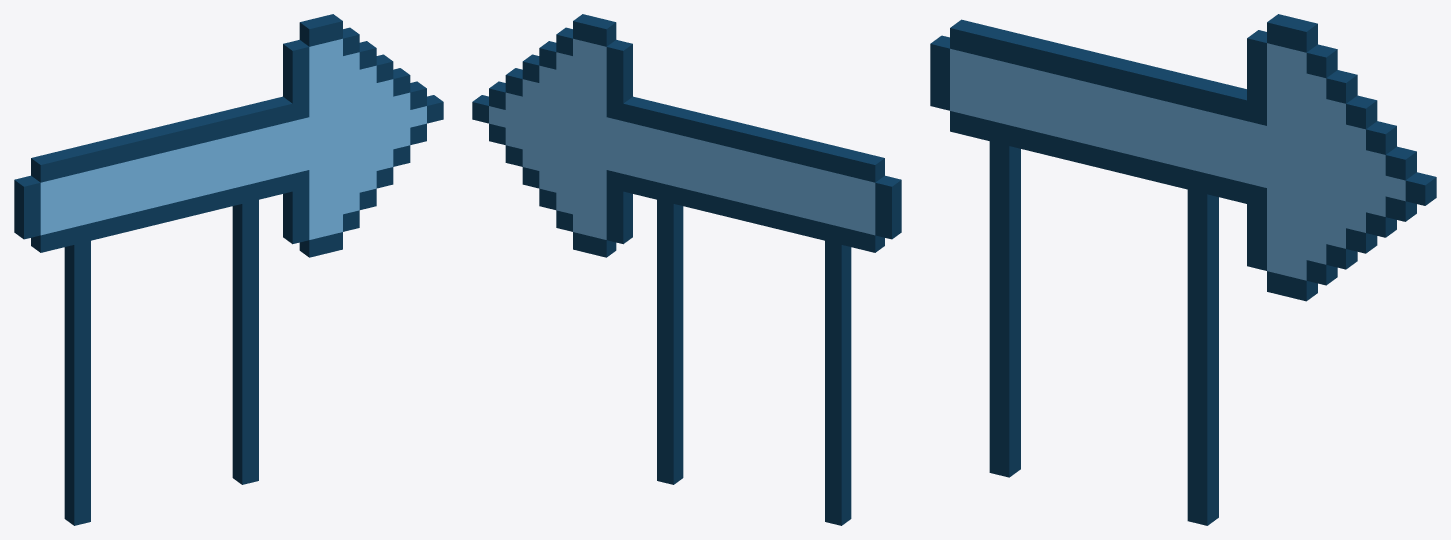
Rendered from Arrow.obj.
3 views of the same model, side by side, from view 1: azimuth 30°, elevation 25°; view 2: azimuth 150°, elevation 25°; view 3: azimuth 330°, elevation 25° (orthographic). The views are drawn at different scales.
Parts seen in each view (by area): view 1: Arrow; view 2: Arrow; view 3: Arrow.
Boxes of the visible parts, x1=… form: Arrow: x1=14, y1=14, x2=443, y2=525; Arrow: x1=472, y1=14, x2=901, y2=525; Arrow: x1=930, y1=14, x2=1436, y2=525.
Size of the model in its own units: 25 by 25 by 1.
Materials: 1 (1 with a texture image).
